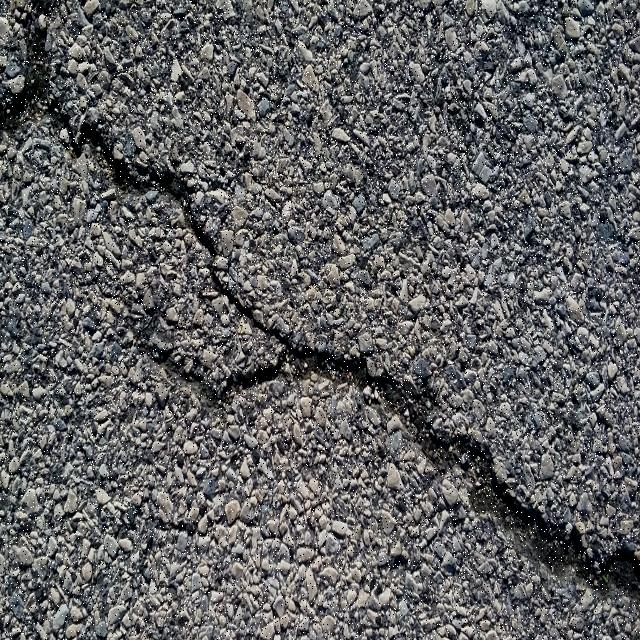Crack: (0, 0, 640, 618)
